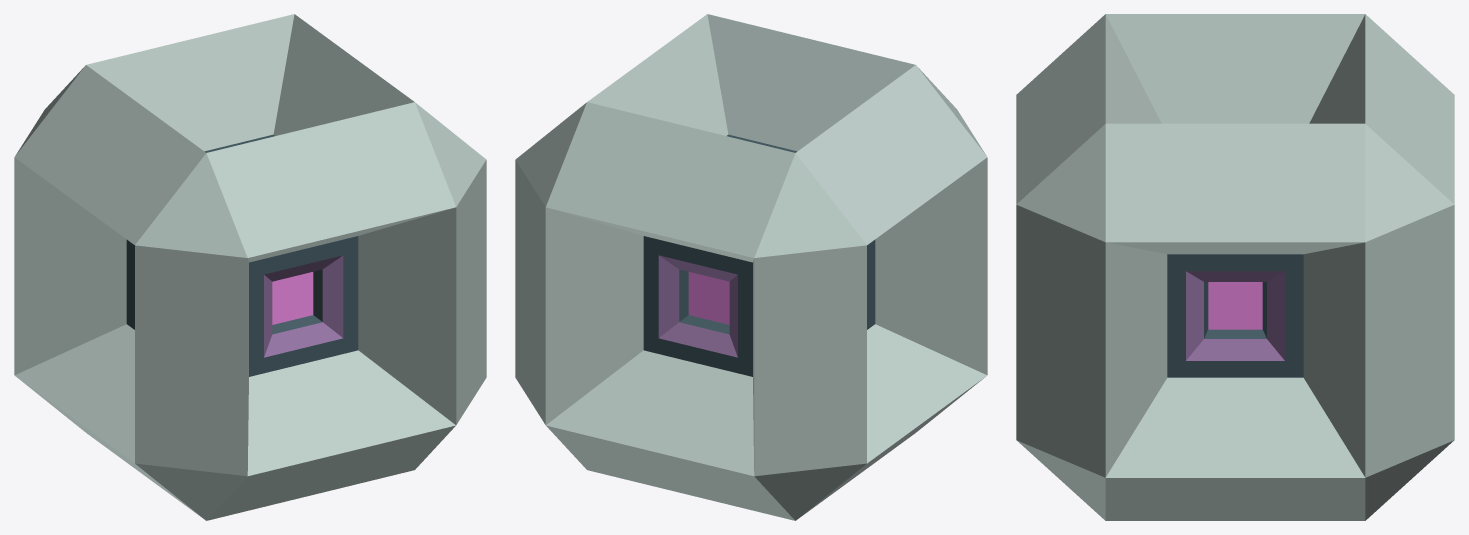
The picture shows the model from 3 angles, left to right: view 1: azimuth 30°, elevation 25°; view 2: azimuth 150°, elevation 25°; view 3: azimuth 270°, elevation 25°; orthographic projection. The views are drawn at different scales.
Visible parts, largest first — view 1: Cube; view 2: Cube; view 3: Cube.
Part boxes in pixels (<box>): Cube: <box>14,14,486,520</box>; Cube: <box>515,14,987,520</box>; Cube: <box>1016,14,1454,520</box>.
Bounding box in the file's own units: 200 × 200 × 200.
